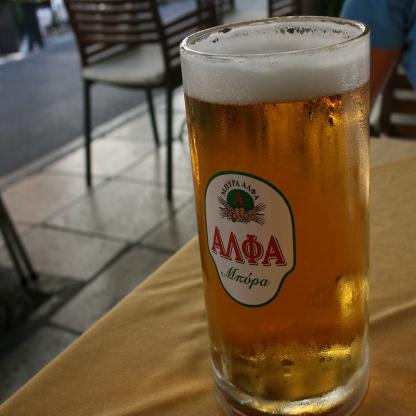drinking: (181, 16, 371, 416)
